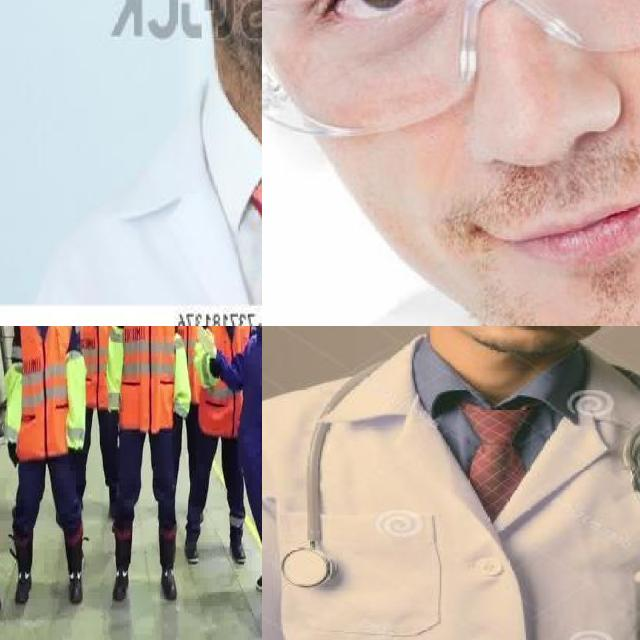boots: (10, 563, 42, 611), (220, 524, 253, 570), (247, 550, 262, 588)
face_nomask: (296, 0, 640, 296)
glasses: (262, 0, 640, 147)
person: (262, 326, 640, 640), (30, 0, 262, 301)
vest: (16, 326, 76, 461), (117, 326, 177, 432), (201, 326, 253, 439), (78, 326, 118, 406), (175, 326, 206, 402)
